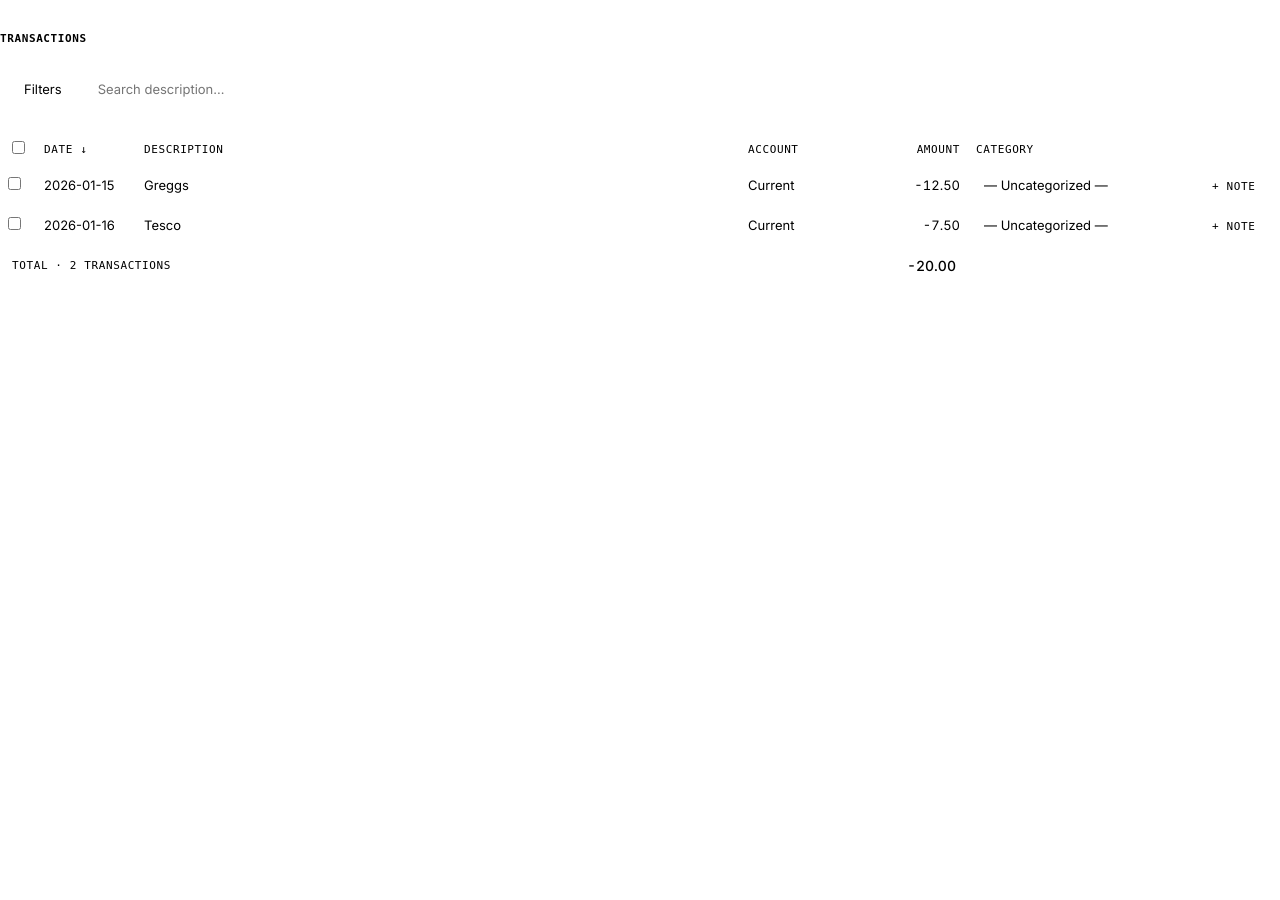
Test case: ledger controls card › the uncategorized toggle has moved into the drawer
expect the checkbox labelled "Uncategorized only" is not shown: met
Click the button "Filters" at (43, 89), box [12,73,74,105]
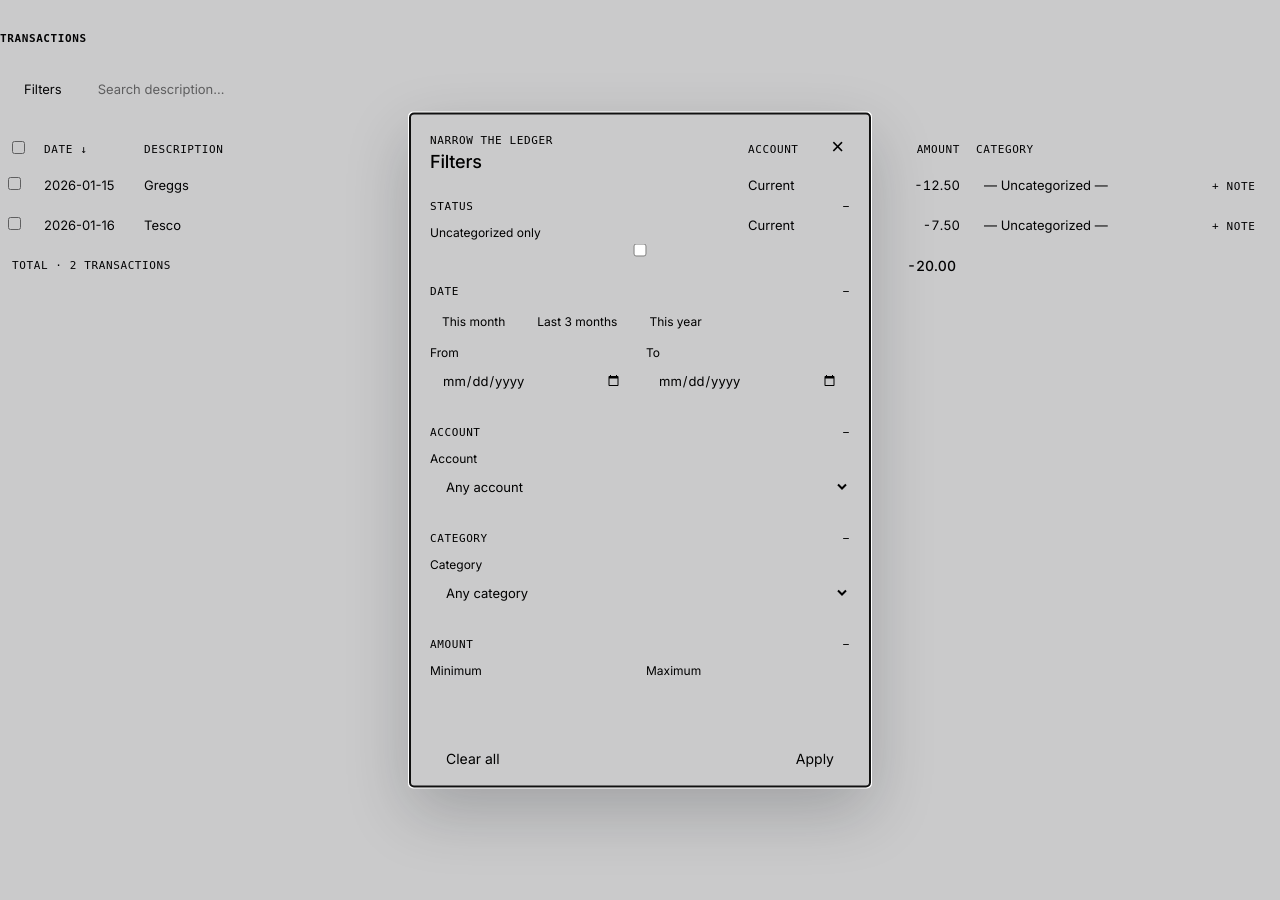
expect the checkbox labelled "Uncategorized only" is shown: met, box [430,244,850,256]
